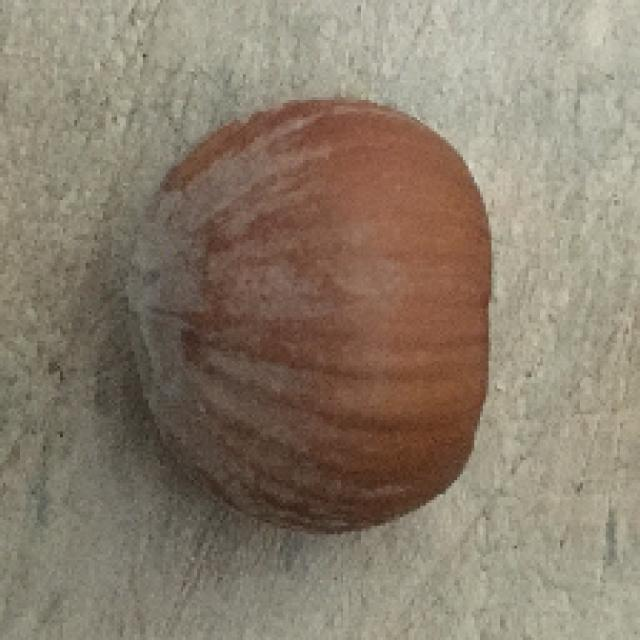QualityHazelnut: (123, 98, 496, 531)
